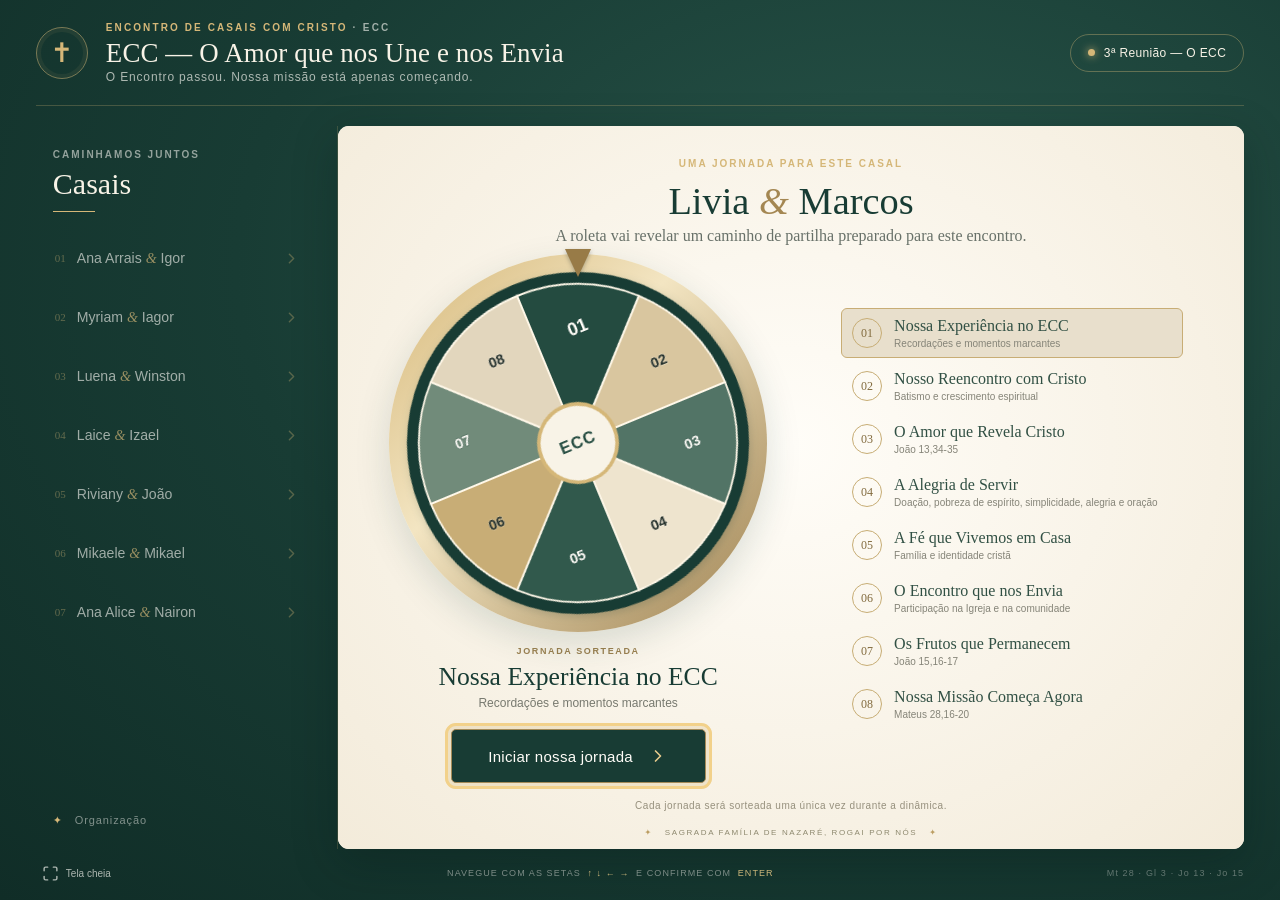
Test: roleta e jornadas › persiste a atribuição ao atualizar e não oferece a jornada novamente
The image size is (1280, 900).
Expected: the heading "Nossa Experiência no ECC" is shown, [438,662,718,692]
Expected: the button "Iniciar nossa jornada" is shown, [451,729,706,783]
Step 1. Click the button "✦ Organização" → (109, 820), box [41,802,317,839]
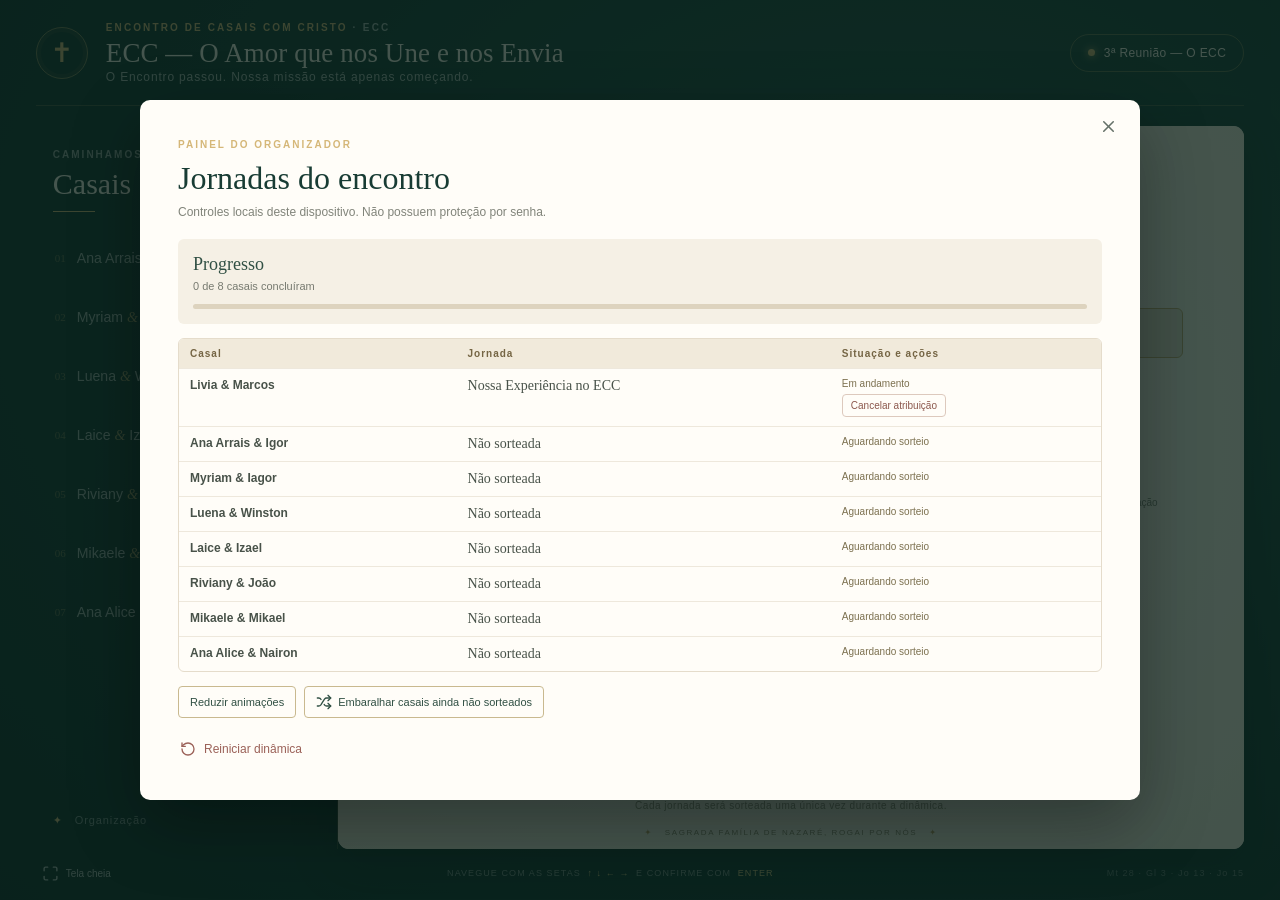
Expected: the heading "Nossa Experiência no ECC" is shown, [438,662,718,692]
Expected: the text "Em andamento" is shown once, [842,378,910,389]
